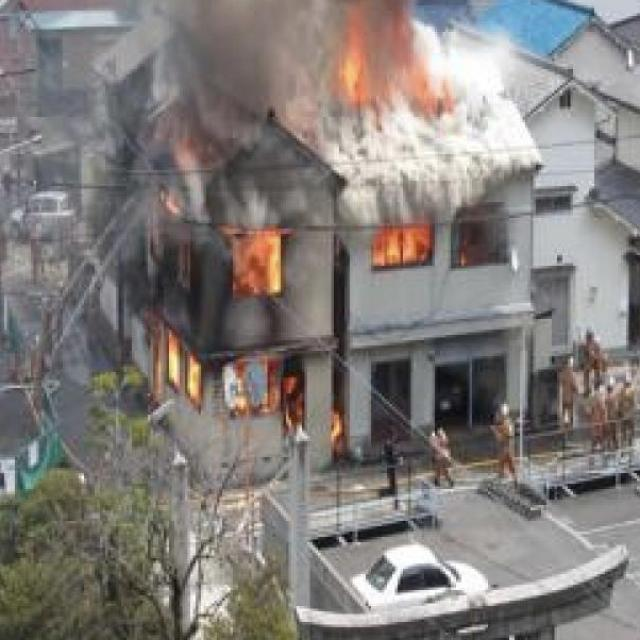Fire: (131, 138, 350, 468), (331, 11, 446, 123), (377, 229, 439, 273)
